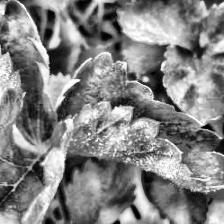Powdery Mildew Leaf: (54, 52, 224, 193), (0, 86, 74, 224), (0, 0, 58, 143)
